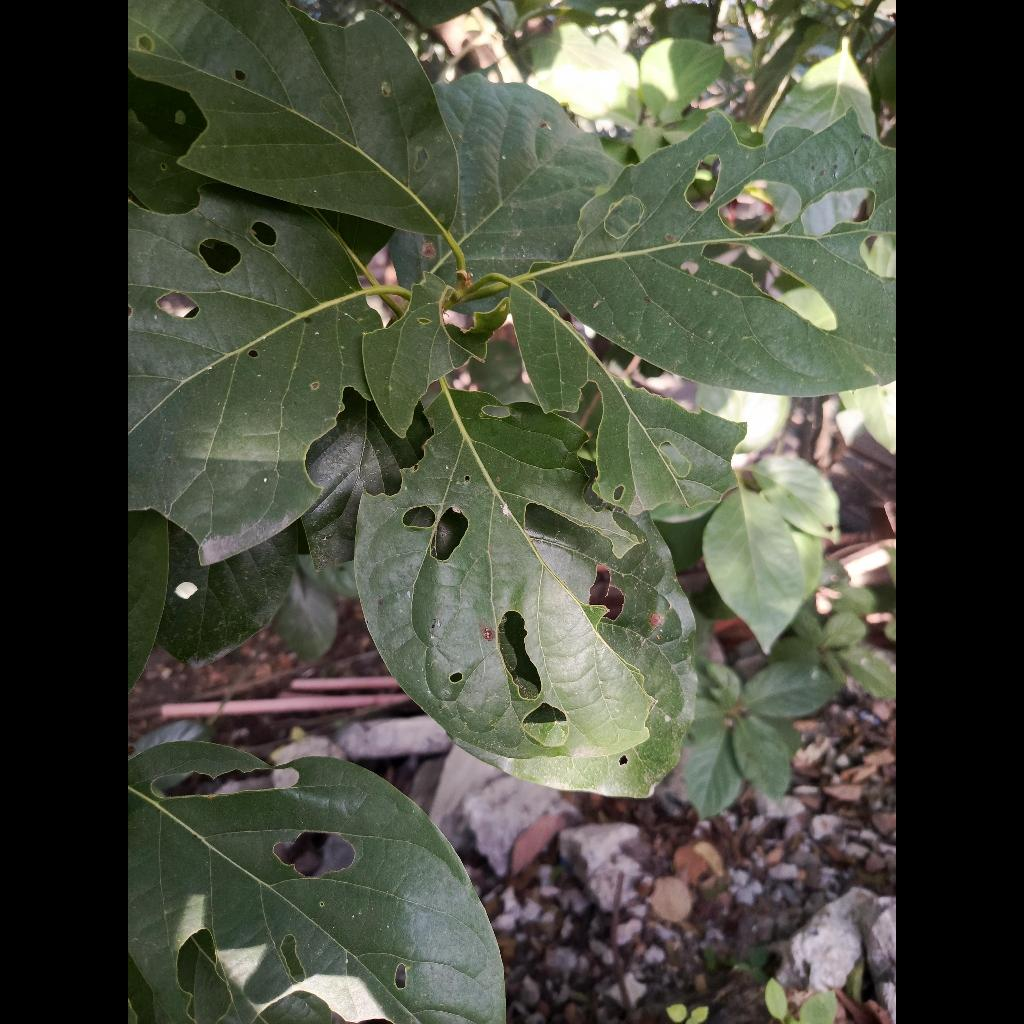plaga: (356, 390, 693, 787), (128, 742, 504, 1024), (530, 113, 896, 396), (128, 186, 378, 563), (128, 0, 458, 233)
